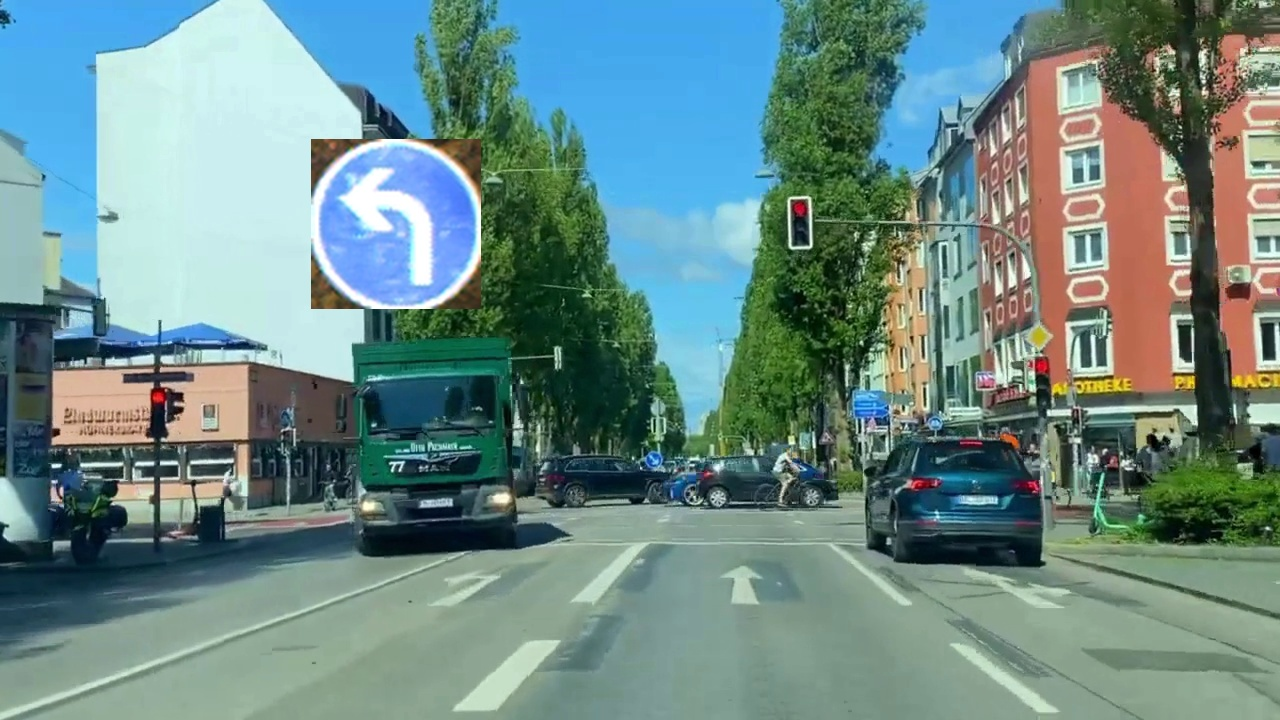Turn left: (311, 139, 481, 309)
